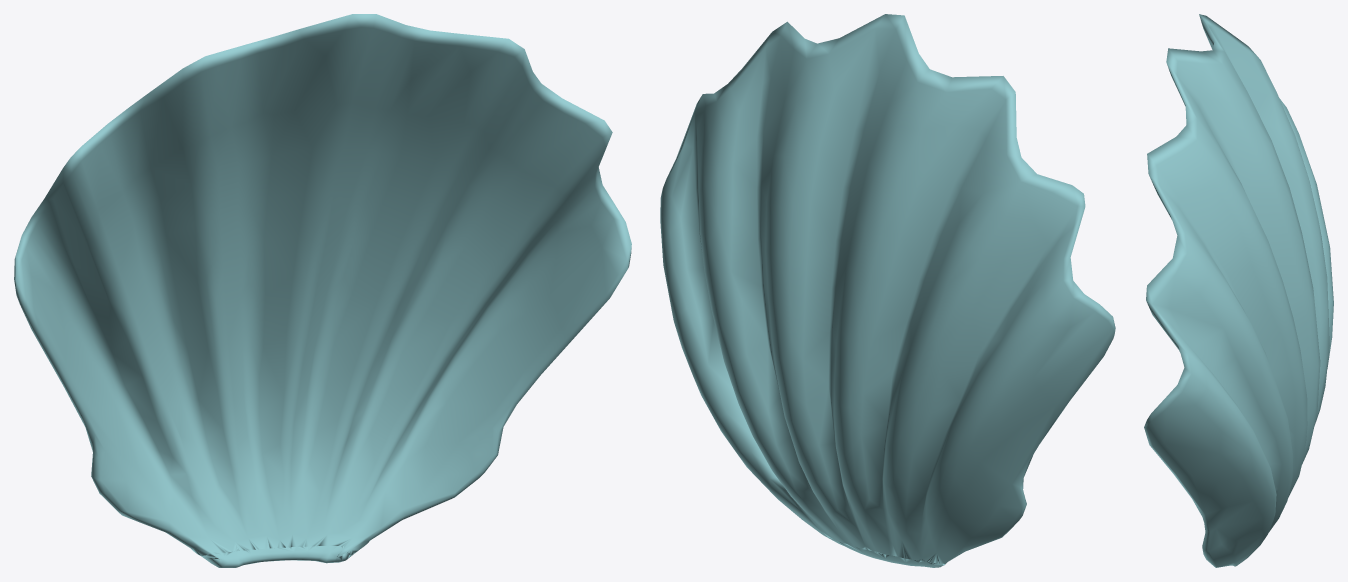
The model's file is seashell3.fbx.
3 renders of one model, left to right at view 1: azimuth 30°, elevation 25°; view 2: azimuth 150°, elevation 25°; view 3: azimuth 270°, elevation 25°, orthographic. The views are drawn at different scales.
Visible parts, largest first — view 1: Plane.001; view 2: Plane.001; view 3: Plane.001.
Part boxes in pixels (x1,y1,x2,y2): Plane.001: [14, 14, 631, 567]; Plane.001: [660, 14, 1115, 567]; Plane.001: [1144, 14, 1333, 567].
Bounding box in the file's own units: 162 × 161 × 55.1.
